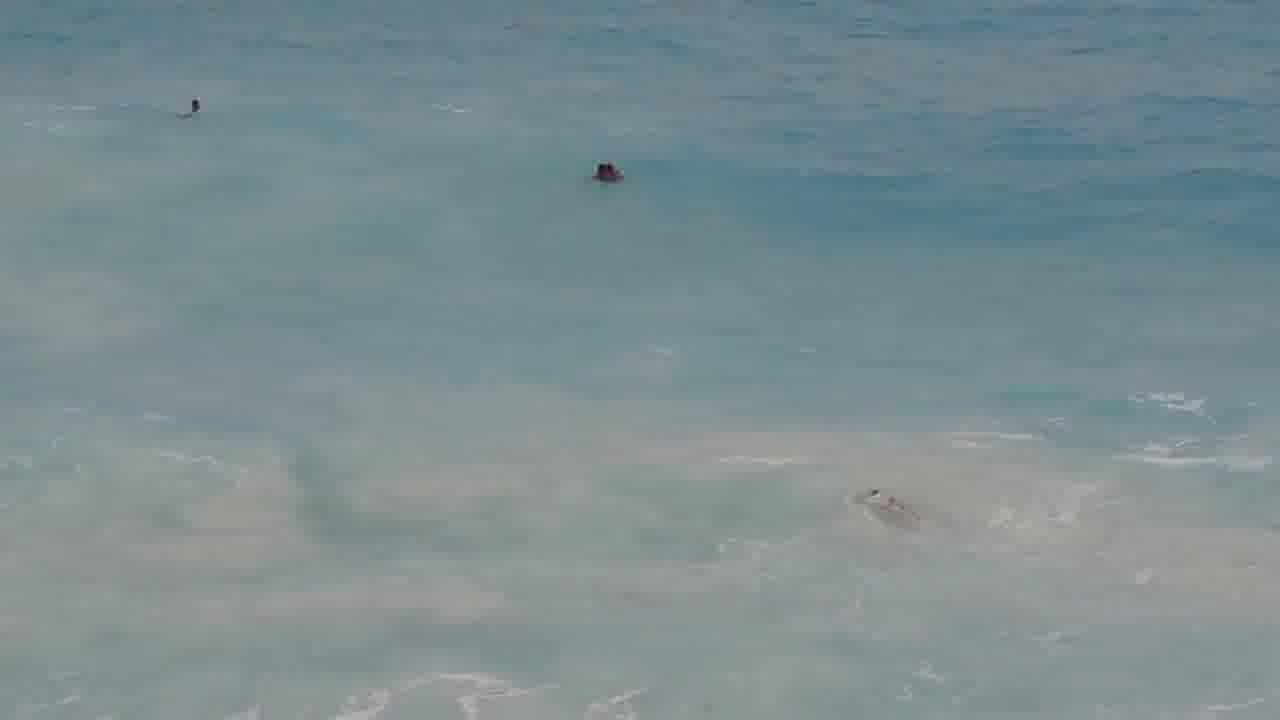human: (579, 146, 636, 192), (170, 86, 220, 120)
